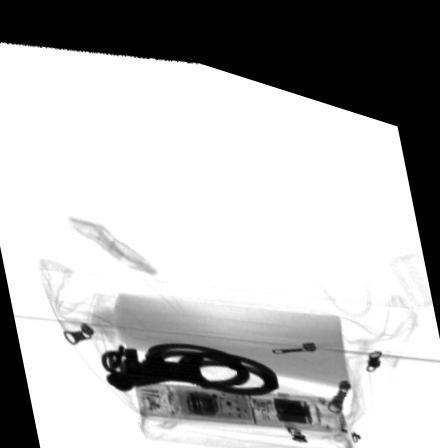Baton: (130, 370, 335, 413)
HandCuffs: (98, 330, 279, 385)
